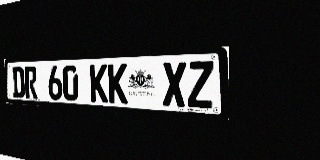0: (62, 65, 78, 101)
6: (47, 65, 63, 100)
D: (12, 67, 25, 98)
K: (108, 63, 127, 104), (89, 64, 108, 103)
R: (24, 66, 38, 99)
X: (162, 62, 186, 107)
Z: (187, 61, 214, 109)
